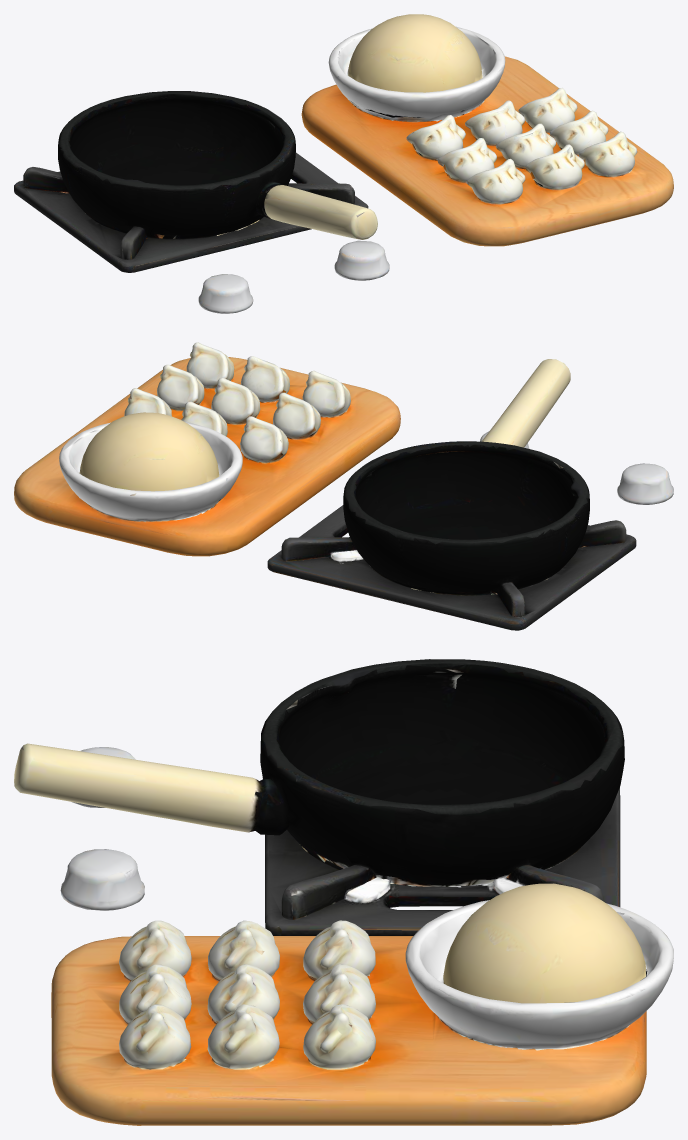
Rendered from kitchen.glb.
The picture shows the model from 3 angles, top to bottom: view 1: azimuth 30°, elevation 25°; view 2: azimuth 150°, elevation 25°; view 3: azimuth 270°, elevation 25°; orthographic projection. The views are drawn at different scales.
Visible parts, largest first — view 1: kitchen; view 2: kitchen; view 3: kitchen.
Boxes of the visible parts, box(x1,y1,x2,y2) form: kitchen: box(14, 14, 673, 313); kitchen: box(14, 342, 673, 630); kitchen: box(14, 659, 673, 1125).
Size of the model in its own units: 5.45 by 1 by 4.05.
1 material, 1 textured.
